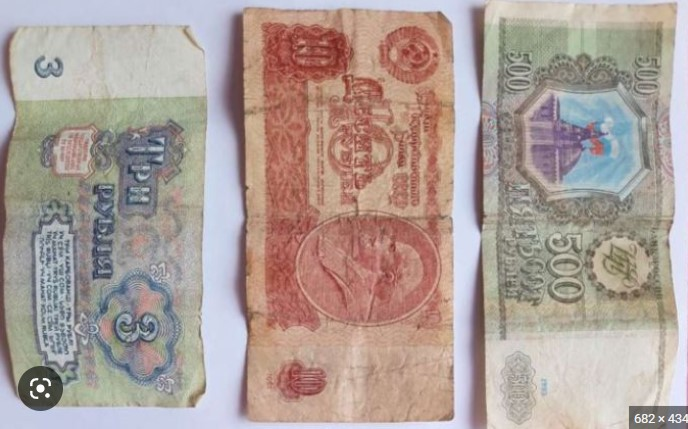cash: (243, 9, 455, 423), (483, 1, 677, 428), (3, 26, 208, 411)
